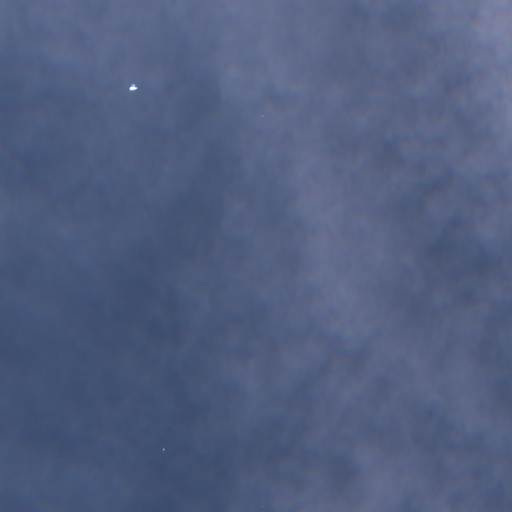Iceberg: (129, 83, 137, 91), (162, 448, 164, 450)
